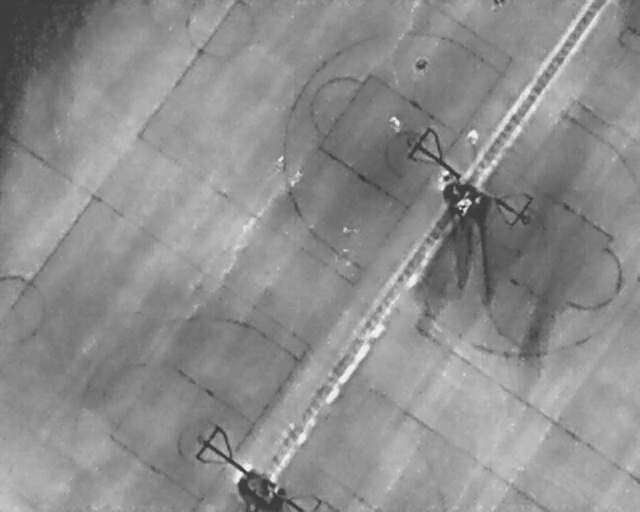Person: (282, 160, 310, 192), (452, 194, 474, 217), (270, 151, 290, 175), (334, 245, 352, 267), (437, 170, 455, 191), (413, 57, 430, 74), (389, 114, 402, 135), (340, 226, 360, 237), (467, 129, 478, 147), (490, 0, 505, 12)
